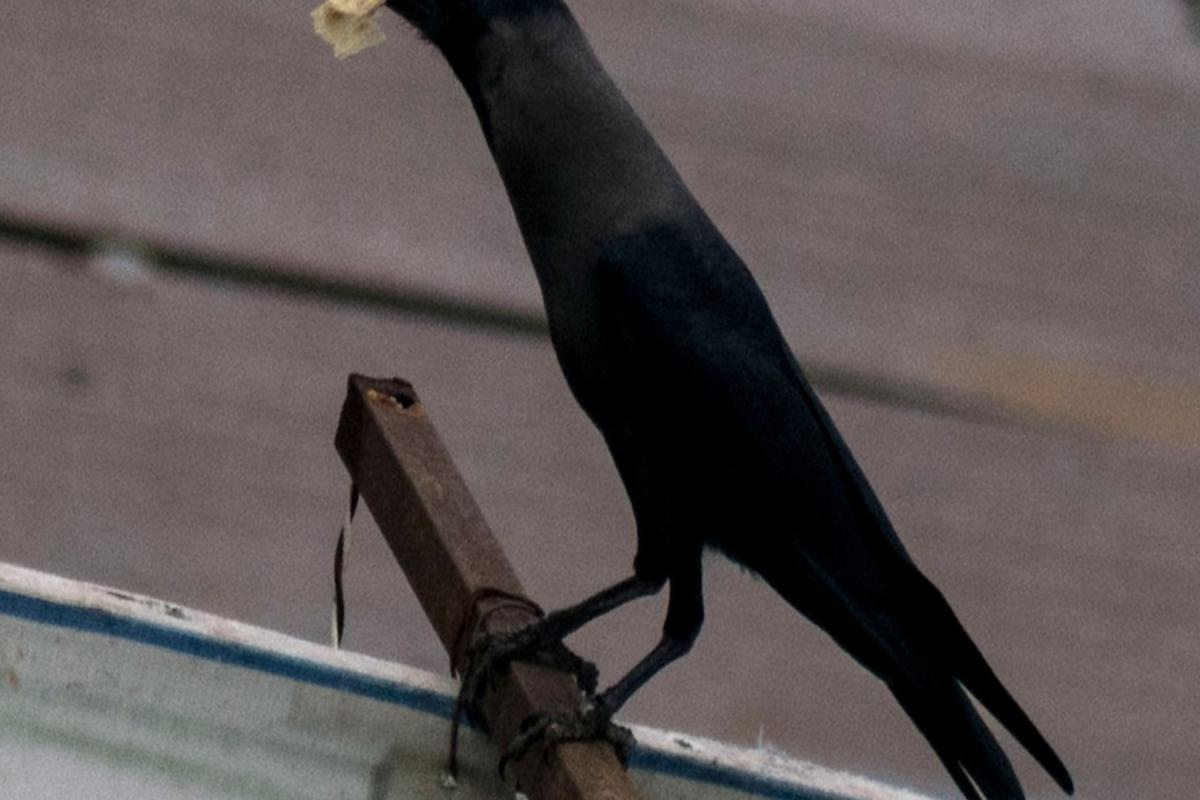crow: (297, 1, 1083, 787)
